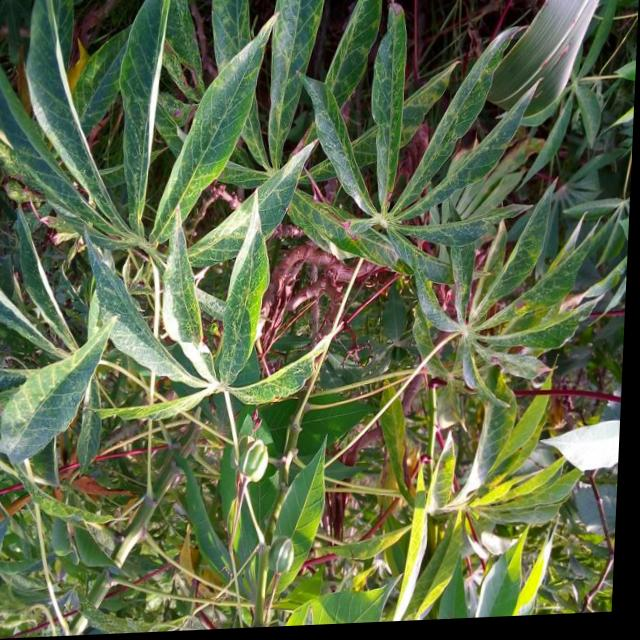Mosaico: (334, 29, 469, 295), (98, 240, 298, 417), (414, 414, 566, 535)
